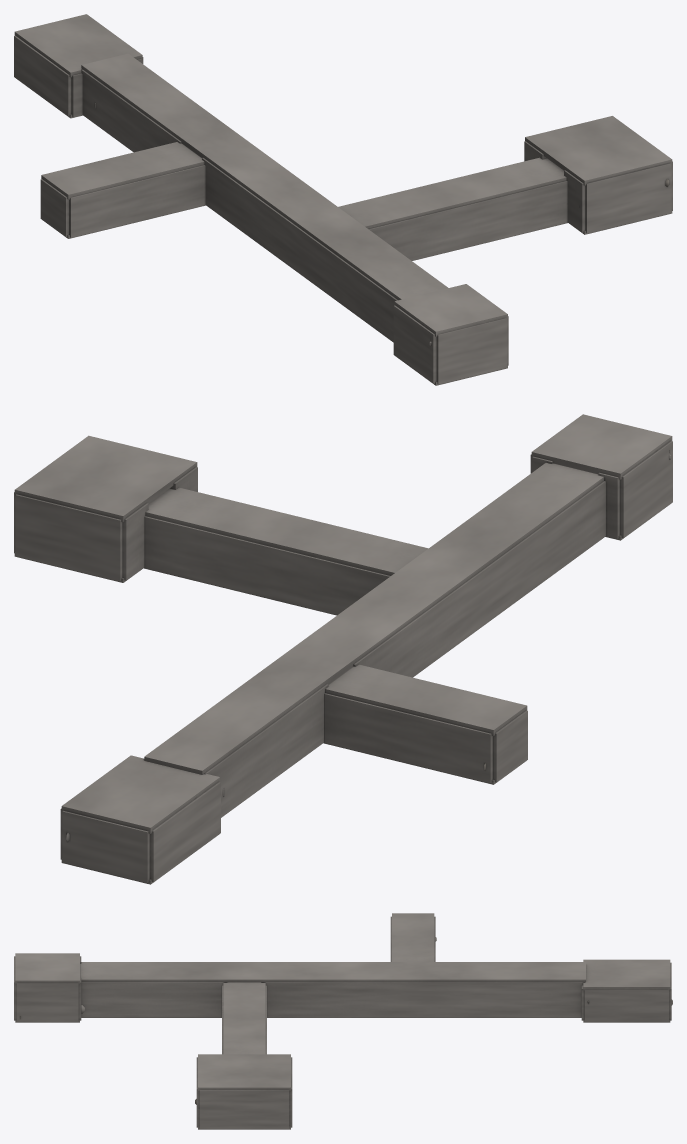
Rendered from mine_horizon.glb.
The picture shows the model from 3 angles, top to bottom: view 1: azimuth 30°, elevation 25°; view 2: azimuth 150°, elevation 25°; view 3: azimuth 270°, elevation 25°; orthographic projection. The views are drawn at different scales.
Visible parts, largest first — view 1: mine_horizon; view 2: mine_horizon; view 3: mine_horizon.
Boxes of the visible parts, x1=… form: mine_horizon: x1=14, y1=14, x2=672, y2=385; mine_horizon: x1=14, y1=414, x2=672, y2=884; mine_horizon: x1=14, y1=913, x2=672, y2=1129.
Size of the model in its own units: 30.8 by 3.35 by 46.89.
1 material, 1 textured.
